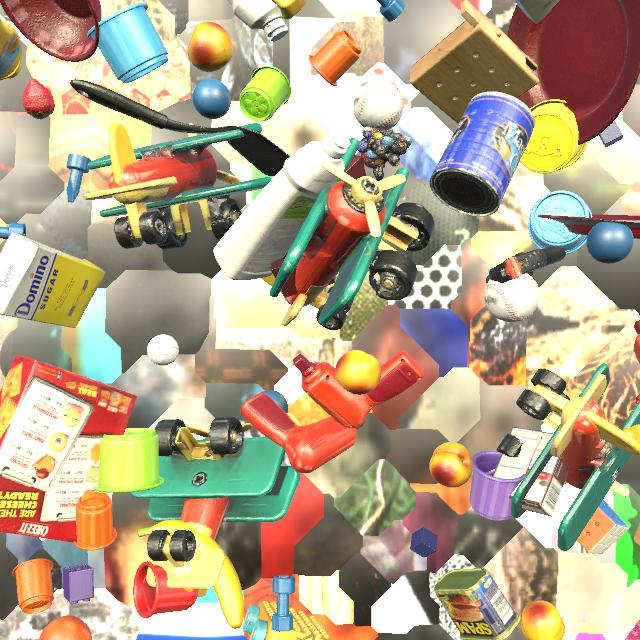ycb_002_master_chef_can: (430, 91, 535, 217)
ycb_003_cracker_box: (0, 355, 137, 543)
ycb_004_sugar_box: (0, 233, 106, 328), (514, 0, 560, 24)
ycb_006_mustard_bottle: (0, 18, 22, 80), (272, 0, 307, 20)
ycb_008_pudding_box: (493, 427, 568, 517)
ycb_010_potted_meat_can: (434, 568, 520, 640)
ycb_011_banana: (137, 520, 244, 629), (622, 424, 640, 455)
ycb_012_strawberry: (22, 78, 55, 119)
ycb_015_peach: (188, 22, 233, 72), (335, 350, 381, 395), (429, 442, 473, 488), (520, 600, 565, 640)
ycb_017_orange: (39, 615, 92, 640)
